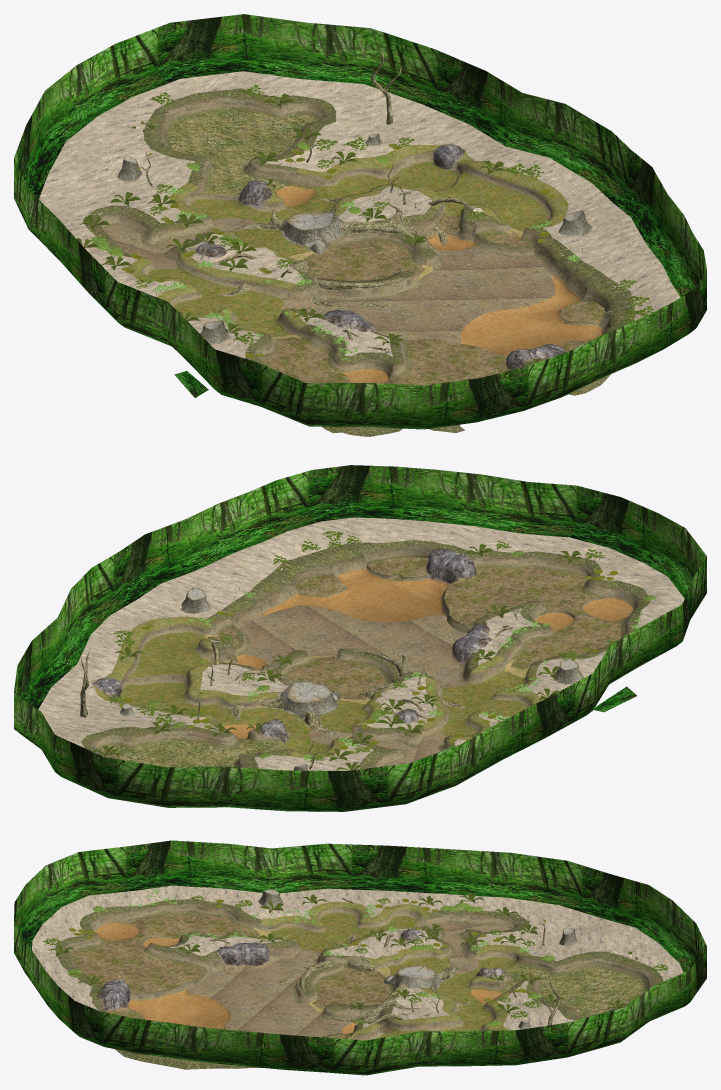
The model's file is FOH.fbx.
3 renders of one model, top to bottom at view 1: azimuth 30°, elevation 25°; view 2: azimuth 150°, elevation 25°; view 3: azimuth 270°, elevation 25°, orthographic. The views are drawn at different scales.
Parts seen in each view (by area): view 1: Mesh_0035.009, Mesh_0035.007, Mesh_0035.013, Mesh_0035.019, Mesh_0035.024, Mesh_0035.018, Mesh_0035.012, Mesh_0035.025, Mesh_0035.003, Mesh_0035.002, Mesh_0035.001, Mesh_0035.023 (+8 smaller); view 2: Mesh_0035.009, Mesh_0035.007, Mesh_0035.013, Mesh_0035.024, Mesh_0035.019, Mesh_0035.018, Mesh_0035.025, Mesh_0035.001, Mesh_0035.012, Mesh_0035.002, Mesh_0035.017, Mesh_0035.003 (+8 smaller); view 3: Mesh_0035.009, Mesh_0035.007, Mesh_0035.013, Mesh_0035.024, Mesh_0035.019, Mesh_0035.018, Mesh_0035.025, Mesh_0035.003, Mesh_0035.002, Mesh_0035.012, Mesh_0035.023, Mesh_0035.011 (+8 smaller).
Part boxes in pixels (x1,y1,x2,y2): Mesh_0035.009: (14,14,706,429); Mesh_0035.007: (39,71,680,358); Mesh_0035.013: (127,144,568,337); Mesh_0035.019: (106,220,555,343); Mesh_0035.024: (265,211,605,385); Mesh_0035.018: (245,213,633,436); Mesh_0035.012: (143,88,336,193); Mesh_0035.025: (276,186,602,383); Mesh_0035.003: (170,109,316,229); Mesh_0035.002: (83,205,598,380); Mesh_0035.001: (288,207,634,340); Mesh_0035.023: (140,50,475,352); Mesh_0035.009: (14,465,706,811); Mesh_0035.007: (38,517,684,770); Mesh_0035.013: (94,616,541,758); Mesh_0035.024: (211,557,621,699); Mesh_0035.019: (240,605,467,766); Mesh_0035.018: (207,540,650,683); Mesh_0035.025: (224,569,633,738); Mesh_0035.001: (215,543,486,682); Mesh_0035.012: (81,724,294,768); Mesh_0035.002: (229,565,619,768); Mesh_0035.017: (92,548,491,744); Mesh_0035.003: (101,739,283,767); Mesh_0035.009: (14,840,706,1075); Mesh_0035.007: (32,885,683,1030); Mesh_0035.013: (258,902,531,1040); Mesh_0035.024: (71,912,396,1038); Mesh_0035.019: (186,922,510,1037); Mesh_0035.018: (55,899,396,1069); Mesh_0035.025: (95,922,502,1034); Mesh_0035.003: (441,965,644,1018); Mesh_0035.002: (128,910,529,1037); Mesh_0035.012: (498,951,663,1020); Mesh_0035.023: (174,898,561,1029); Mesh_0035.011: (49,893,637,1014).
Size of the model in its own units: 40280 by 8869 by 58534.
